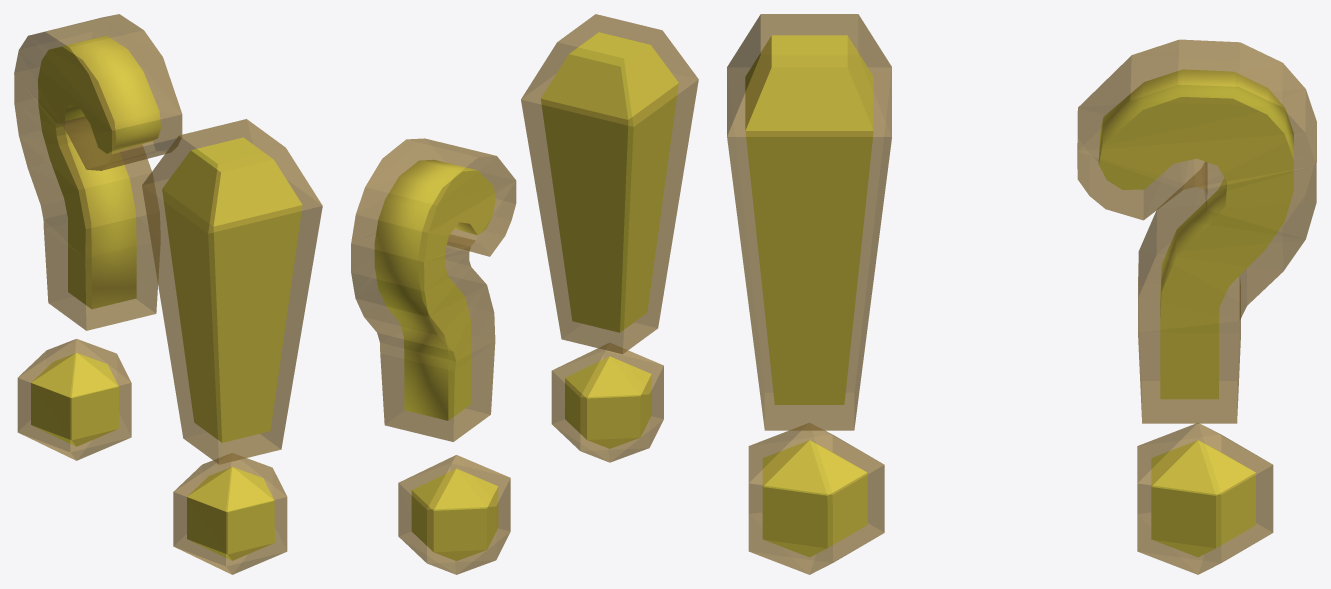
The model's file is quest_marker.fbx.
The picture shows the model from 3 angles, left to right: view 1: azimuth 30°, elevation 25°; view 2: azimuth 150°, elevation 25°; view 3: azimuth 270°, elevation 25°; orthographic projection. The views are drawn at different scales.
Visible parts, largest first — view 1: quest, complete; view 2: quest, complete; view 3: complete, quest.
Boxes of the visible parts, x1,y1,x2,y2 form: quest: (142,119,322,574); complete: (14,14,182,460); quest: (521,14,698,462); complete: (351,138,516,574); complete: (1077,39,1316,574); quest: (727,14,891,574).
Size of the model in its own units: 266 by 921 by 911.
